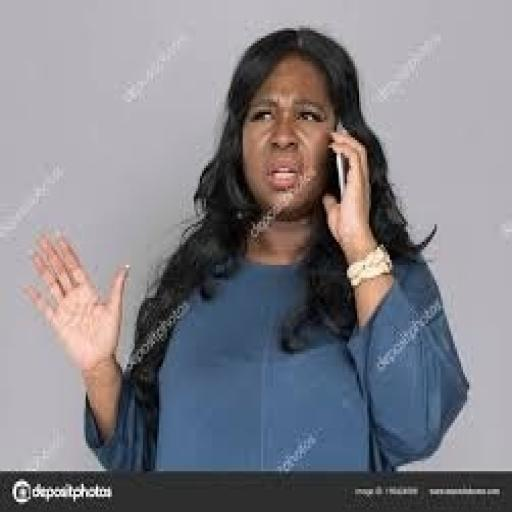texting: (20, 23, 472, 471)
